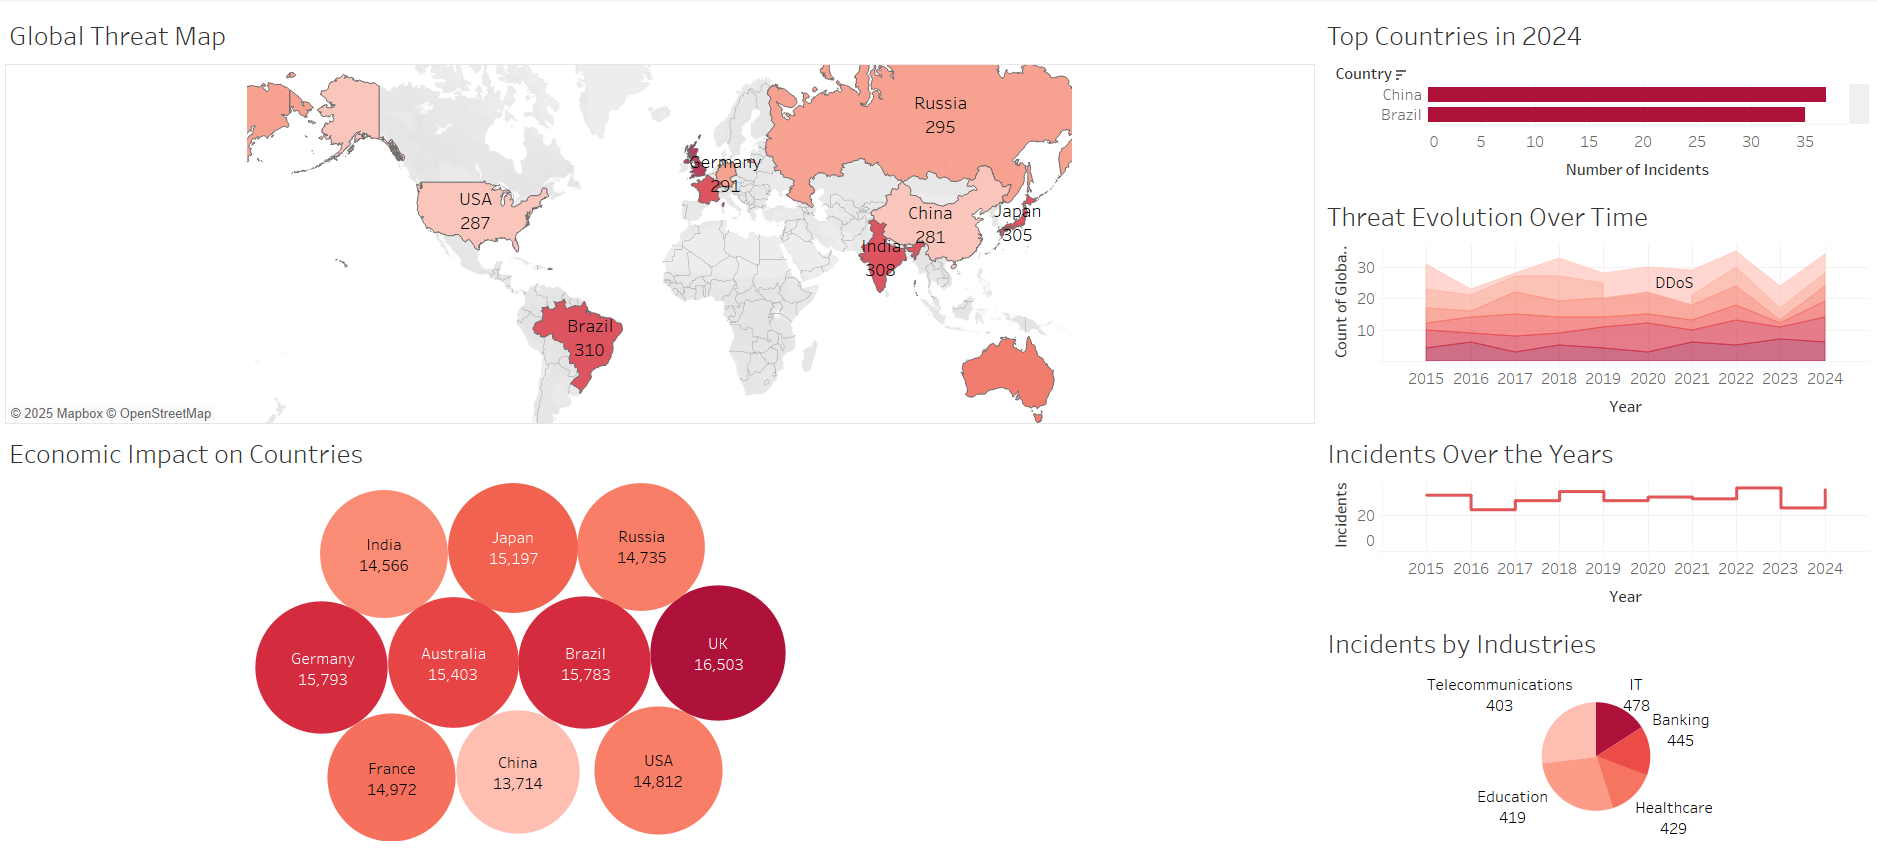

What the dashboard file says about the page in this screenshot:
{"tool":"tableau","page":{"name":"Global Threats","canvas":[1000,800],"ordinal":0},"visuals":[{"type":"worksheet","title":"Global Threat Map","mark":"Automatic","box":[8,8,548,392]},{"type":"worksheet","title":"Top Countries in 2024","mark":"Automatic","rows":["Country"],"cols":["Global!Cybersecurity!Threats!20_EDF218BD60454E8B846E16160089"],"box":[556,8,436,181]},{"type":"worksheet","title":"Threat Evolution Over Time","mark":"Area","rows":["Global!Cybersecurity!Threats!20_EDF218BD60454E8B846E16160089"],"cols":["Year"],"box":[556,189,436,237]},{"type":"worksheet","title":"Economic Impact on Countries","mark":"Circle","box":[8,400,548,392]},{"type":"worksheet","title":"Incidents Over the Years","mark":"Automatic","rows":["Global!Cybersecurity!Threats!20_EDF218BD60454E8B846E16160089"],"cols":["Year"],"box":[556,426,436,139]},{"type":"worksheet","title":"Incidents by Industries","mark":"Pie","box":[556,565,436,227]}]}

Visuals, with their boxes on the page's 1000x800 design canvas (x1, y1, x2, y2). These are canvas units, not pixel positions in the 1877x850 screenshot, which may show the page scaled, cropped or inside an application window:
"Global Threat Map" worksheet: bbox(8, 8, 556, 400)
"Top Countries in 2024" worksheet: bbox(556, 8, 992, 189)
"Threat Evolution Over Time" worksheet (Area marks): bbox(556, 189, 992, 426)
"Economic Impact on Countries" worksheet (Circle marks): bbox(8, 400, 556, 792)
"Incidents Over the Years" worksheet: bbox(556, 426, 992, 565)
"Incidents by Industries" worksheet (Pie marks): bbox(556, 565, 992, 792)
